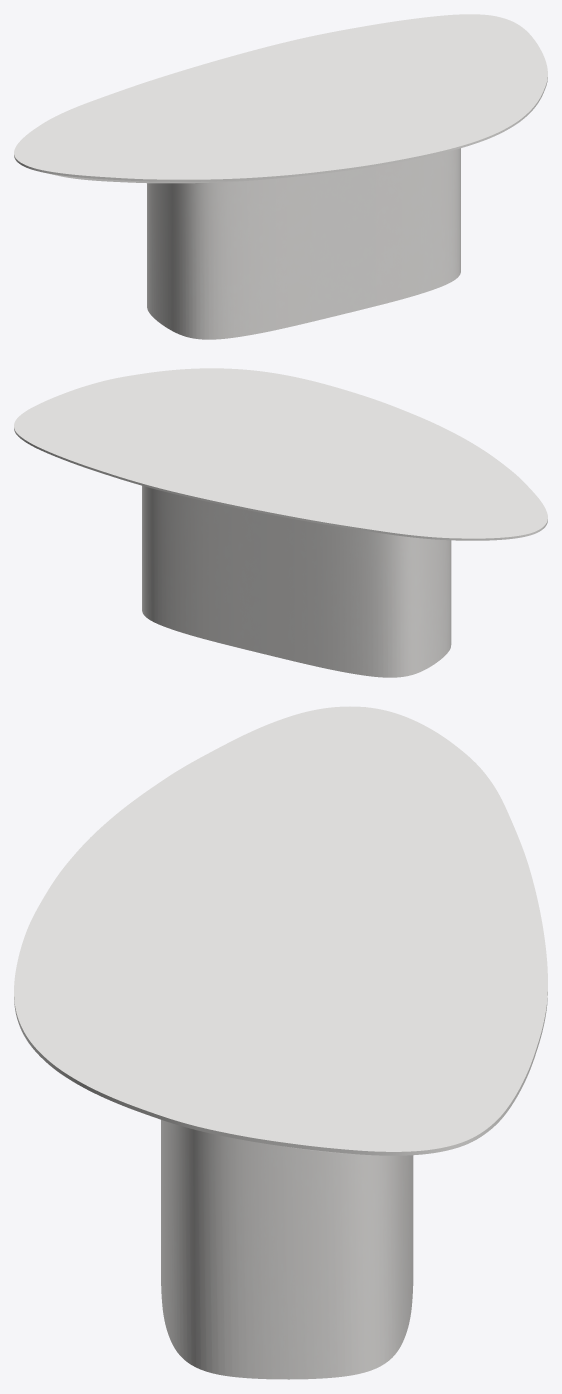
The model's file is purewhite_pebbletop_facet_fixed.glb.
The picture shows the model from 3 angles, top to bottom: view 1: azimuth 30°, elevation 25°; view 2: azimuth 150°, elevation 25°; view 3: azimuth 270°, elevation 25°; orthographic projection. The views are drawn at different scales.
Parts seen in each view (by area): view 1: facet_pebbletop, fixed; view 2: facet_pebbletop, fixed; view 3: facet_pebbletop, fixed.
Boxes of the visible parts, bbox=[...] form: facet_pebbletop: bbox=[14, 14, 547, 183]; fixed: bbox=[147, 148, 460, 339]; facet_pebbletop: bbox=[14, 368, 547, 540]; fixed: bbox=[142, 485, 451, 677]; facet_pebbletop: bbox=[14, 706, 547, 1155]; fixed: bbox=[161, 1120, 413, 1379].
Bounding box in the file's own units: 7.5 × 2.5 × 3.8.
Materials: 1 (1 with a texture image).
